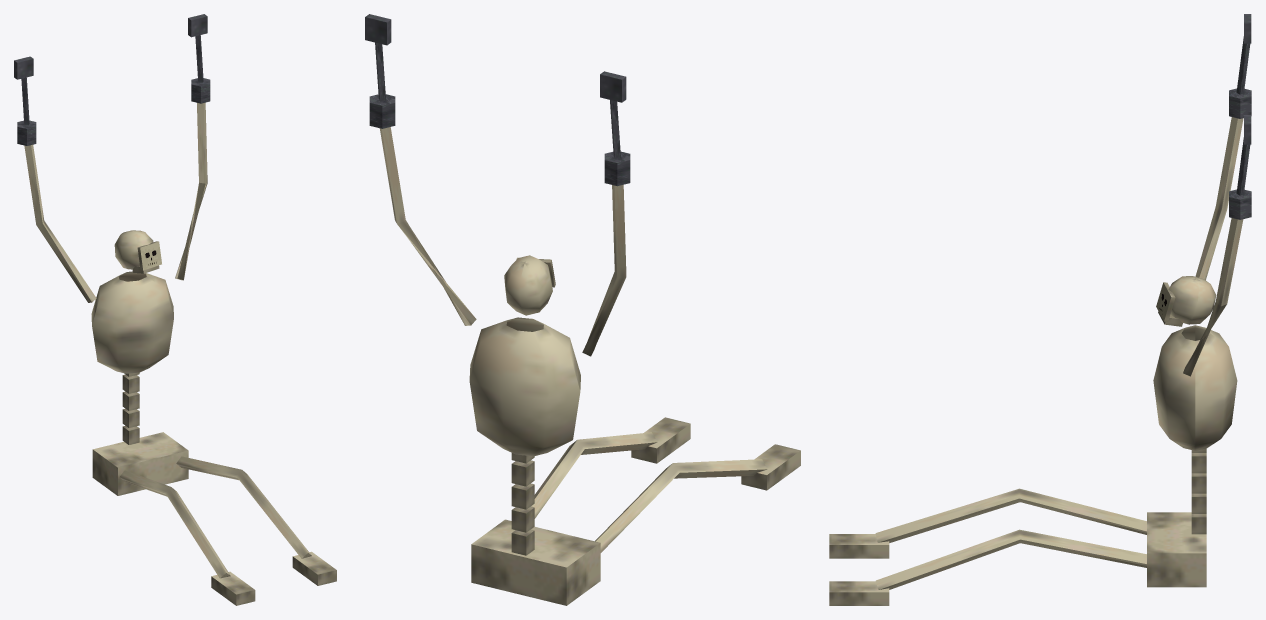
The model's file is skeleton_chained.obj.
3 renders of one model, left to right at view 1: azimuth 30°, elevation 25°; view 2: azimuth 150°, elevation 25°; view 3: azimuth 270°, elevation 25°, orthographic. The views are drawn at different scales.
Visible parts, largest first — view 1: skeleton_chained; view 2: skeleton_chained; view 3: skeleton_chained.
Part boxes in pixels (bbox=[...]): skeleton_chained: bbox=[14, 14, 336, 605]; skeleton_chained: bbox=[365, 14, 800, 605]; skeleton_chained: bbox=[829, 14, 1251, 605].
Size of the model in its own units: 0.71 by 1.5 by 1.13.
1 material, 1 textured.
